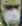with_mask: (1, 2, 22, 26)
